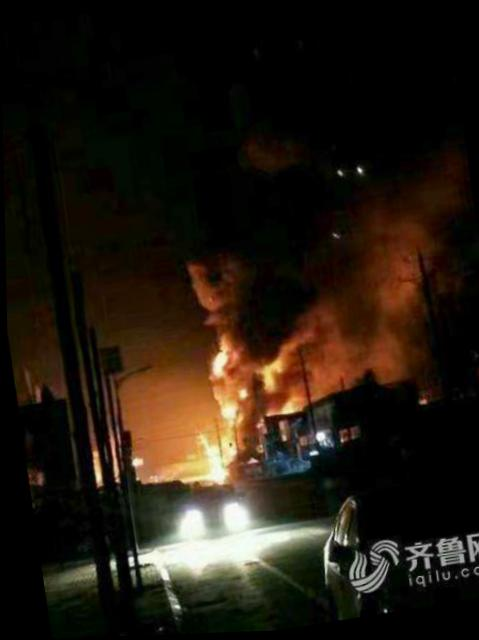fire: (202, 337, 296, 431)
